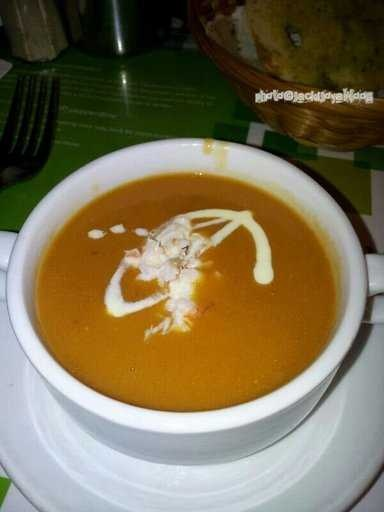soup: (17, 146, 346, 413)
